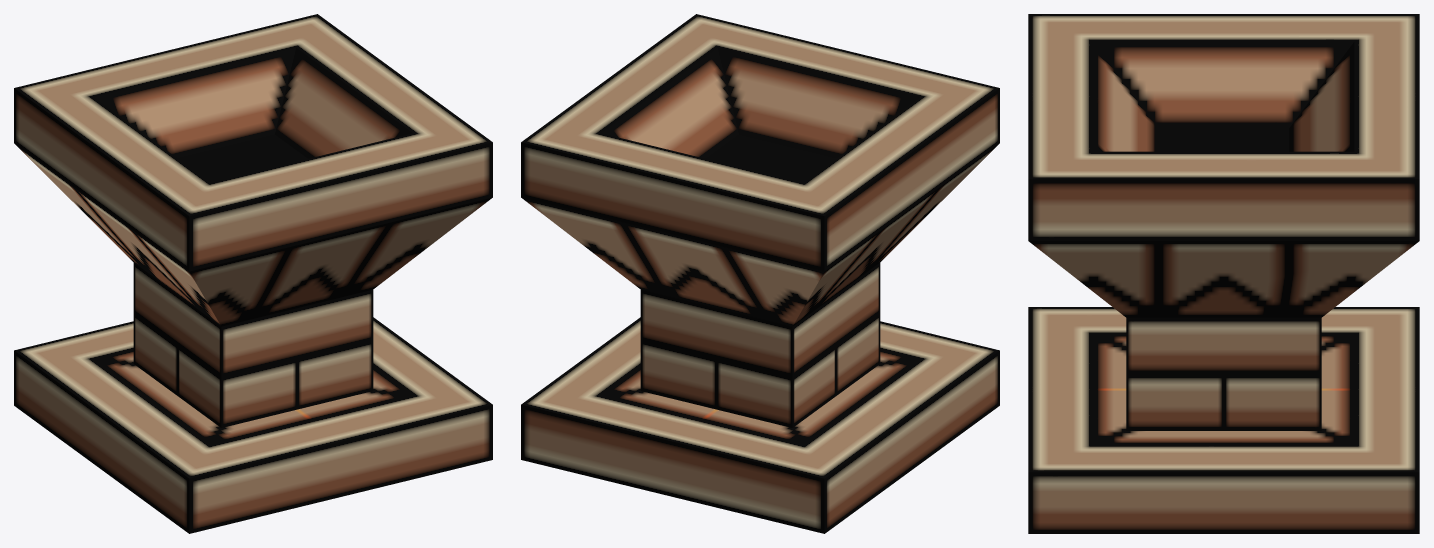
Rendered from deco_censer_off.FBX.
3 renders of one model, left to right at view 1: azimuth 30°, elevation 25°; view 2: azimuth 150°, elevation 25°; view 3: azimuth 270°, elevation 25°, orthographic. The views are drawn at different scales.
Parts seen in each view (by area): view 1: deco_censer_off; view 2: deco_censer_off; view 3: deco_censer_off.
Boxes of the visible parts, x1,y1,x2,y2 form: deco_censer_off: (14,14,492,533); deco_censer_off: (521,14,999,533); deco_censer_off: (1028,14,1419,533).
Bounding box in the file's own units: 1.5 × 1.5 × 1.5.
Materials: 1 (1 with a texture image).
